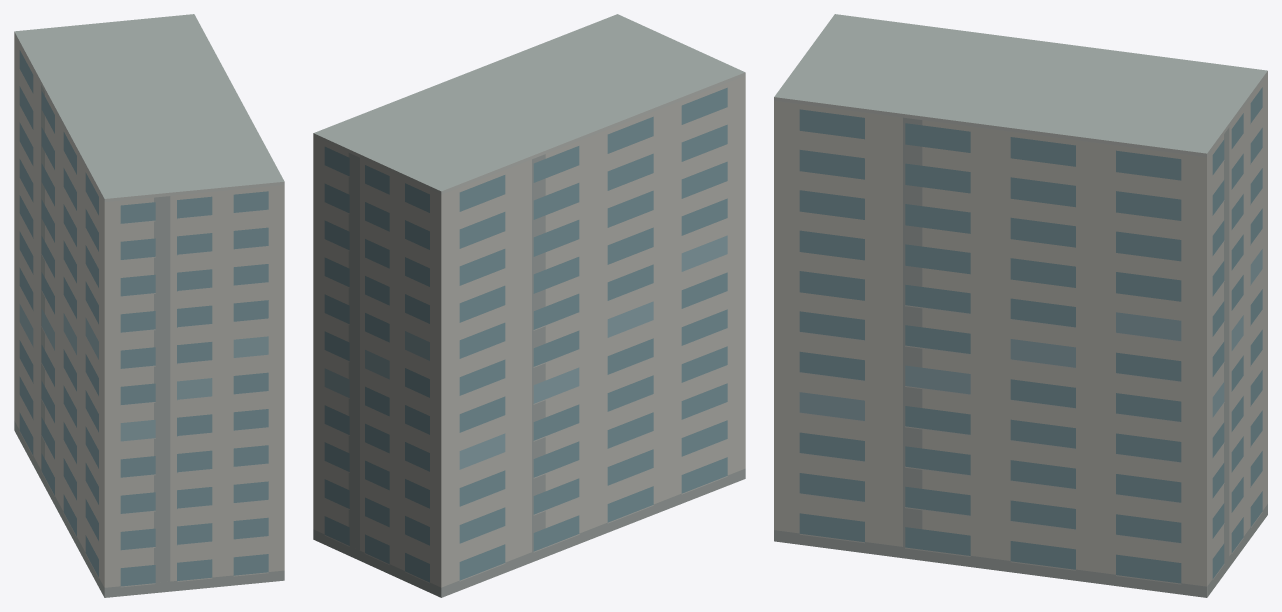
File: residential-638fab02-8480-4ce1-87e1-33c72652ccae.glb
3 renders of one model, left to right at view 1: azimuth 30°, elevation 25°; view 2: azimuth 150°, elevation 25°; view 3: azimuth 270°, elevation 25°, orthographic. The views are drawn at different scales.
Visible parts, largest first — view 1: residential-638fab02-8480-4ce1-87e1-33c72652ccae.tmp; view 2: residential-638fab02-8480-4ce1-87e1-33c72652ccae.tmp; view 3: residential-638fab02-8480-4ce1-87e1-33c72652ccae.tmp.
Boxes of the visible parts, x1,y1,x2,y2 form: residential-638fab02-8480-4ce1-87e1-33c72652ccae.tmp: (14,14,284,597); residential-638fab02-8480-4ce1-87e1-33c72652ccae.tmp: (313,14,745,597); residential-638fab02-8480-4ce1-87e1-33c72652ccae.tmp: (774,14,1267,597).
Size of the model in its own units: 19.55 by 29 by 29.22.
